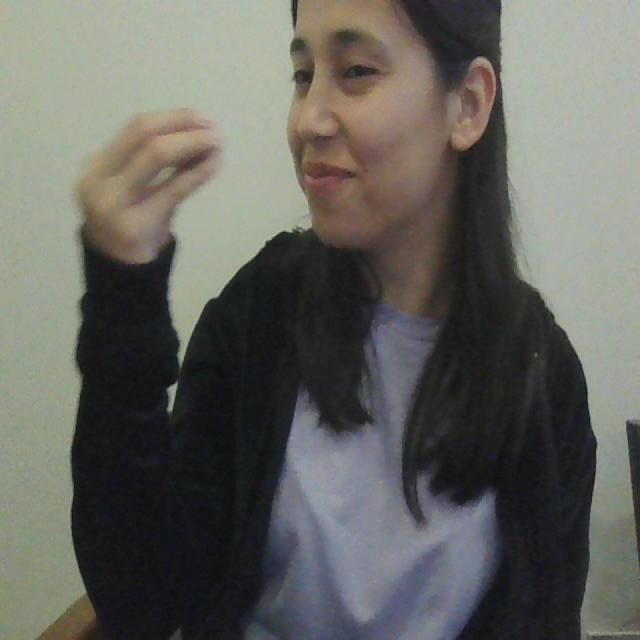Yemek: (72, 111, 347, 213)
